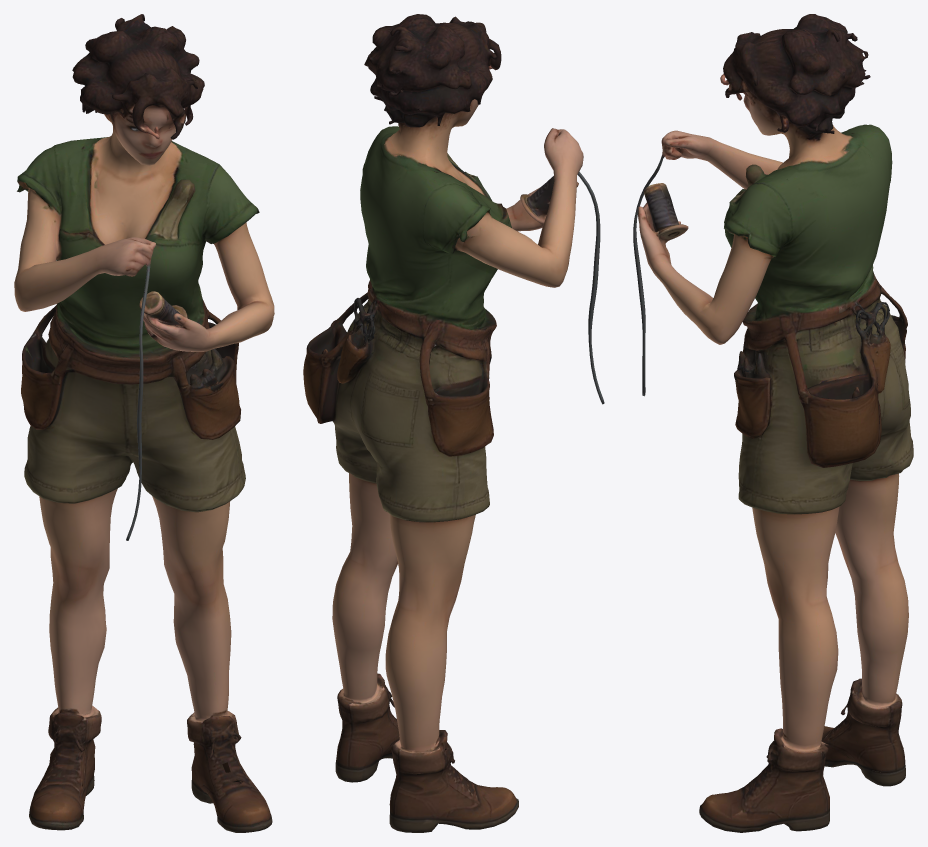
Rendered from female_artisan.glb.
3 renders of one model, left to right at view 1: azimuth 30°, elevation 25°; view 2: azimuth 150°, elevation 25°; view 3: azimuth 270°, elevation 25°, orthographic. The views are drawn at different scales.
Visible parts, largest first — view 1: tripo_node_097c7ae6-80b8-47f2-9284-4b15bd7514c3; view 2: tripo_node_097c7ae6-80b8-47f2-9284-4b15bd7514c3; view 3: tripo_node_097c7ae6-80b8-47f2-9284-4b15bd7514c3.
Boxes of the visible parts, <box> form: tripo_node_097c7ae6-80b8-47f2-9284-4b15bd7514c3: <box>14,14,274,832</box>; tripo_node_097c7ae6-80b8-47f2-9284-4b15bd7514c3: <box>303,14,604,832</box>; tripo_node_097c7ae6-80b8-47f2-9284-4b15bd7514c3: <box>633,14,913,832</box>.
Bounding box in the file's own units: 0.5051 × 1.62 × 0.536.
Materials: 1 (1 with a texture image).
